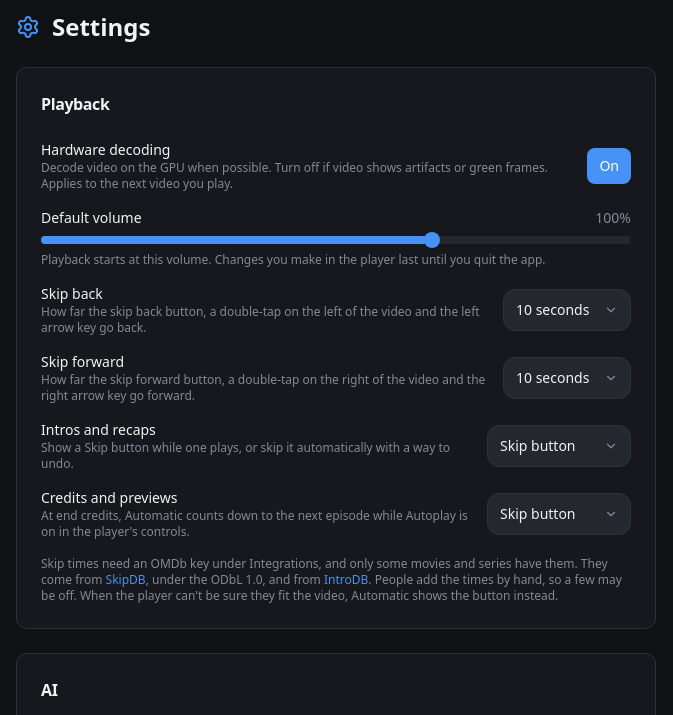
Settings playback › saves each skip length on its own and shows the new one
Expected: the button with aria-label "Skip forward" reads "10 seconds", top-left (503, 357), bottom-right (631, 399)
Step 1. Click the button with aria-label "Skip back" → (567, 310), box top-left (503, 289), bottom-right (631, 331)
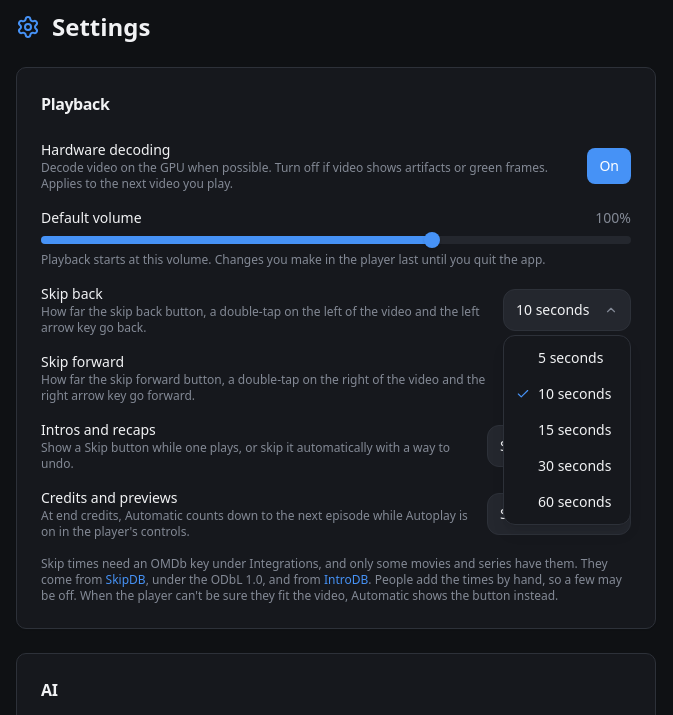
Step 2. Click the option "30 seconds" → (575, 466), box top-left (538, 456), bottom-right (611, 475)
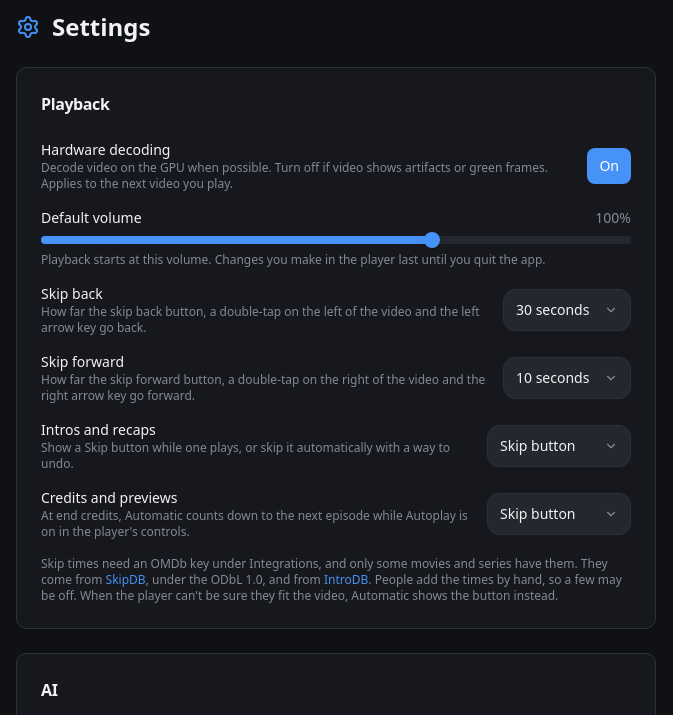
Expected: the button with aria-label "Skip back" reads "30 seconds", top-left (503, 289), bottom-right (631, 331)
Expected: the list is gone
Step 3. Click the button with aria-label "Skip forward" → (567, 378), box top-left (503, 357), bottom-right (631, 399)
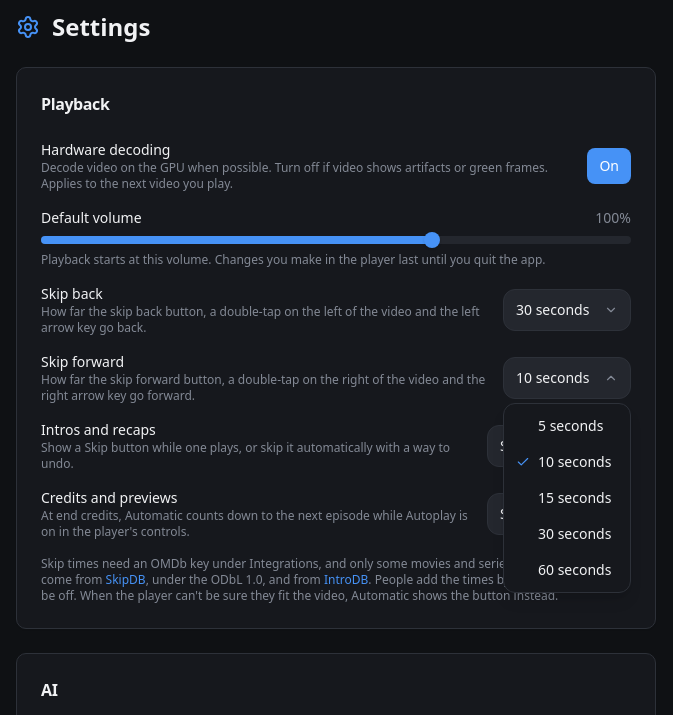
Step 4. Click the option "5 seconds" → (571, 426), box top-left (538, 416), bottom-right (603, 435)
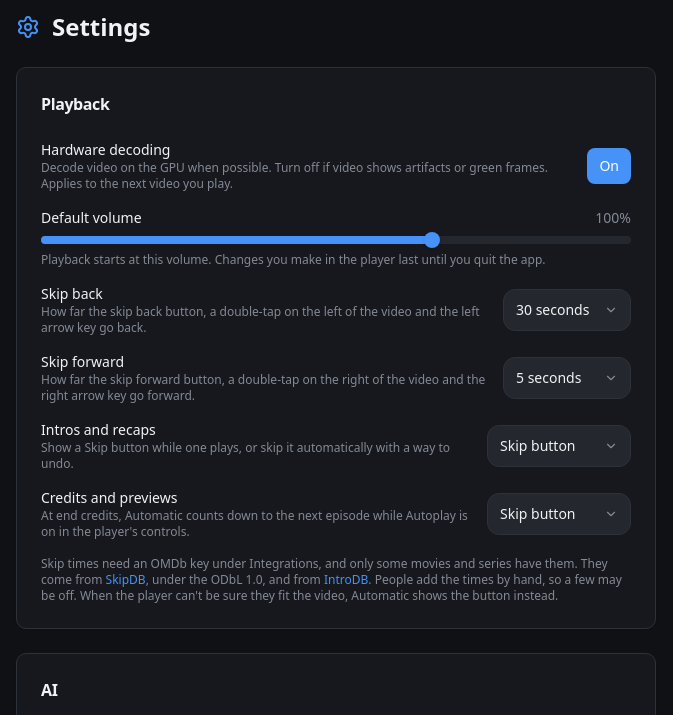
Expected: the button with aria-label "Skip back" reads "30 seconds", top-left (503, 289), bottom-right (631, 331)
Expected: the button with aria-label "Skip forward" reads "5 seconds", top-left (503, 357), bottom-right (631, 399)
